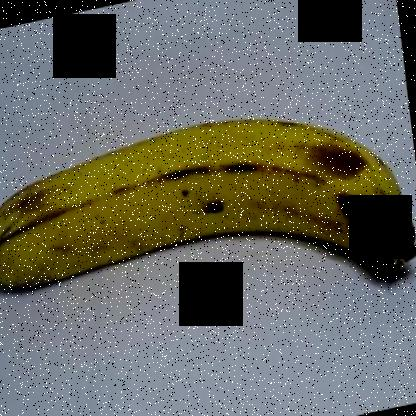ripe: (1, 100, 415, 323)
